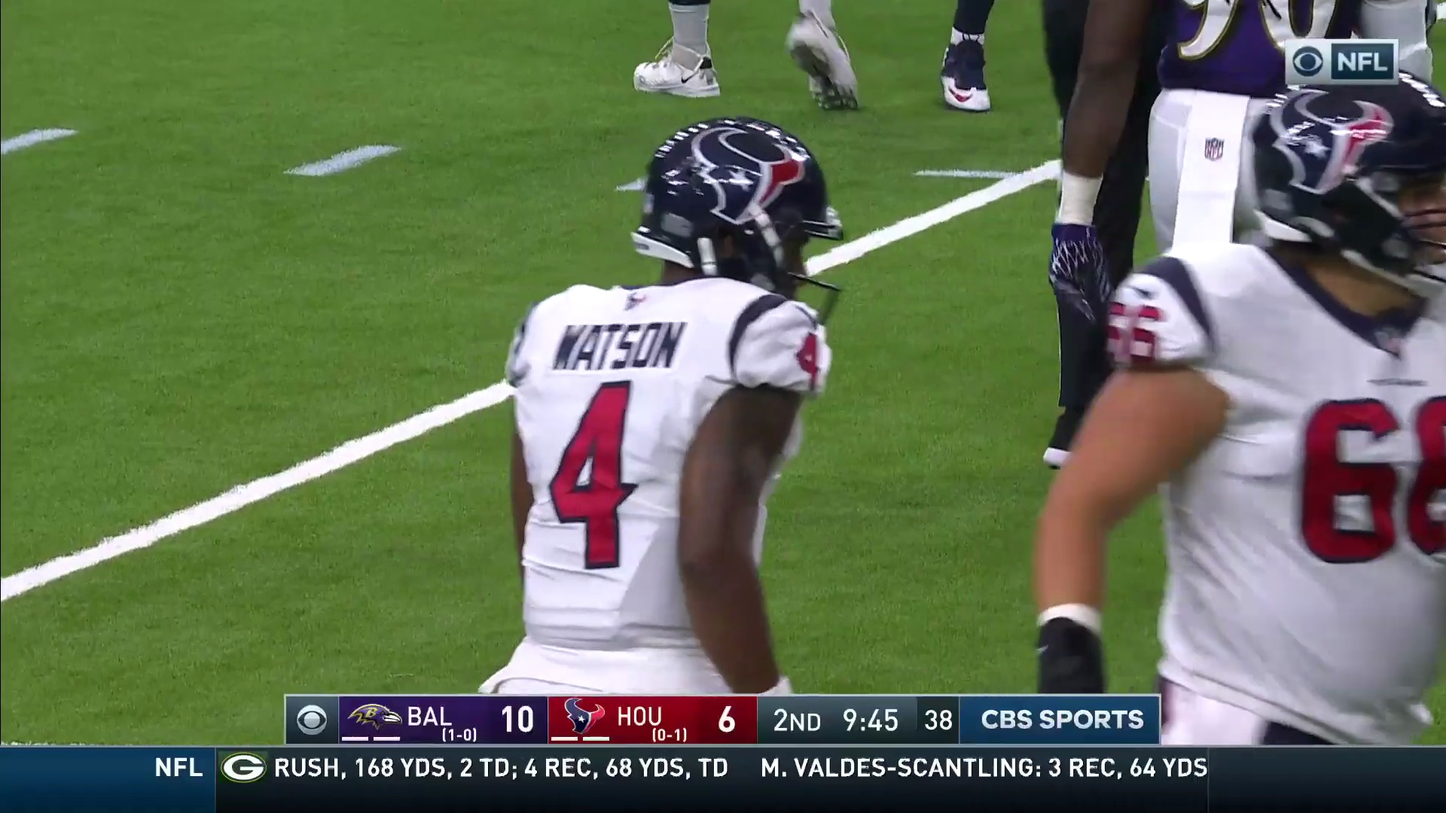Player: (1099, 58, 1446, 595), (635, 0, 716, 94)
